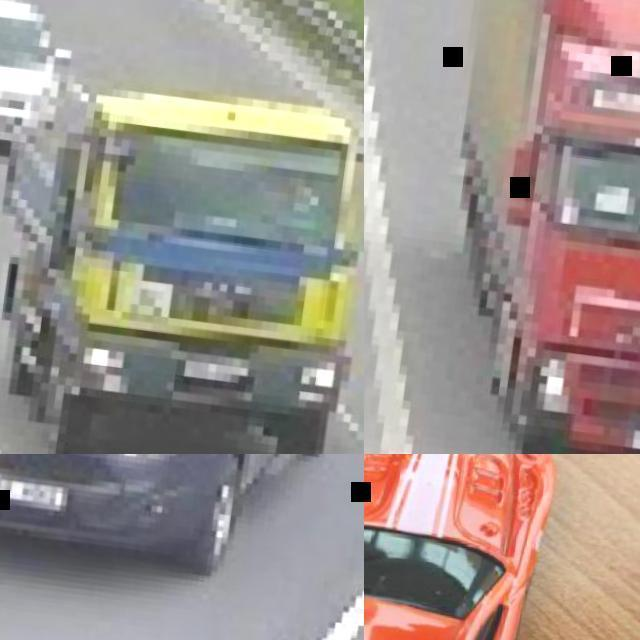car: (472, 78, 639, 441)
